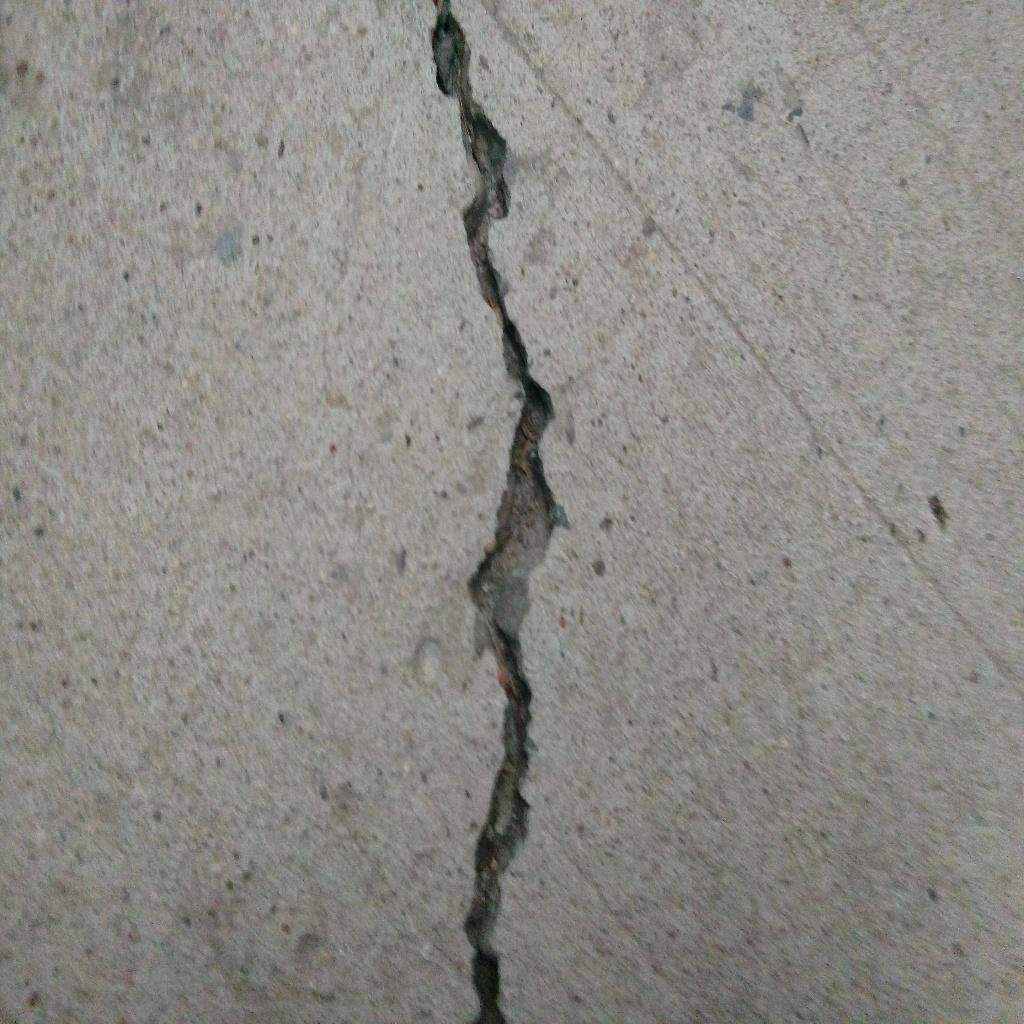Crack: (431, 1, 564, 1024)
